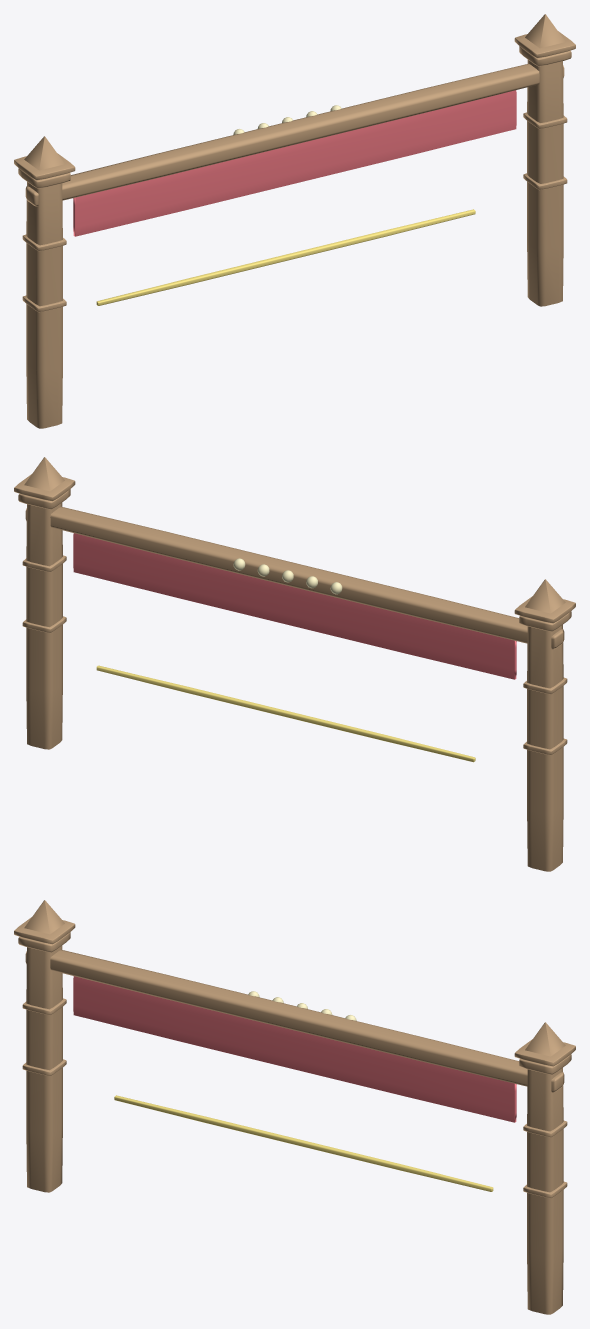
Rendered from BobsledGate.glb.
3 renders of one model, top to bottom at view 1: azimuth 30°, elevation 25°; view 2: azimuth 150°, elevation 25°; view 3: azimuth 330°, elevation 25°, orthographic.
Visible parts, largest first — view 1: Frame, Banner, Bar; view 2: Frame, Banner, Bar, Lights; view 3: Frame, Banner, Bar.
Part boxes in pixels (bbox=[...]): Frame: bbox=[14, 14, 575, 428]; Banner: bbox=[73, 90, 516, 236]; Bar: bbox=[96, 209, 475, 305]; Frame: bbox=[14, 457, 575, 871]; Banner: bbox=[73, 533, 516, 679]; Bar: bbox=[96, 665, 475, 762]; Lights: bbox=[233, 558, 342, 594]; Frame: bbox=[14, 900, 575, 1314]; Banner: bbox=[73, 976, 516, 1122]; Bar: bbox=[114, 1095, 493, 1191].
Size of the model in its own units: 55.75 by 28.2 by 4.15.
